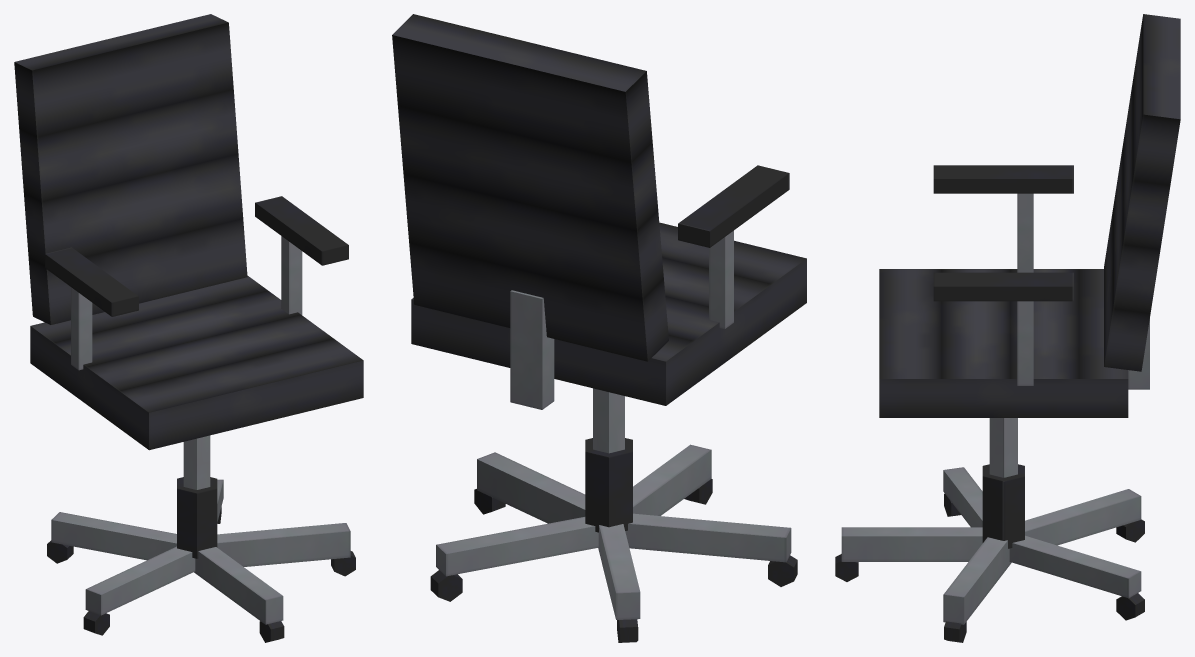
Rendered from chair_station.obj.
The picture shows the model from 3 angles, left to right: view 1: azimuth 30°, elevation 25°; view 2: azimuth 150°, elevation 25°; view 3: azimuth 270°, elevation 25°; orthographic projection. The views are drawn at different scales.
Parts seen in each view (by area): view 1: chair_station; view 2: chair_station; view 3: chair_station.
Boxes of the visible parts, bbox=[...] form: chair_station: bbox=[14, 14, 363, 642]; chair_station: bbox=[392, 14, 806, 642]; chair_station: bbox=[835, 14, 1180, 642].
Size of the model in its own units: 0.6021 by 1.05 by 0.6387.
Materials: 1 (1 with a texture image).
